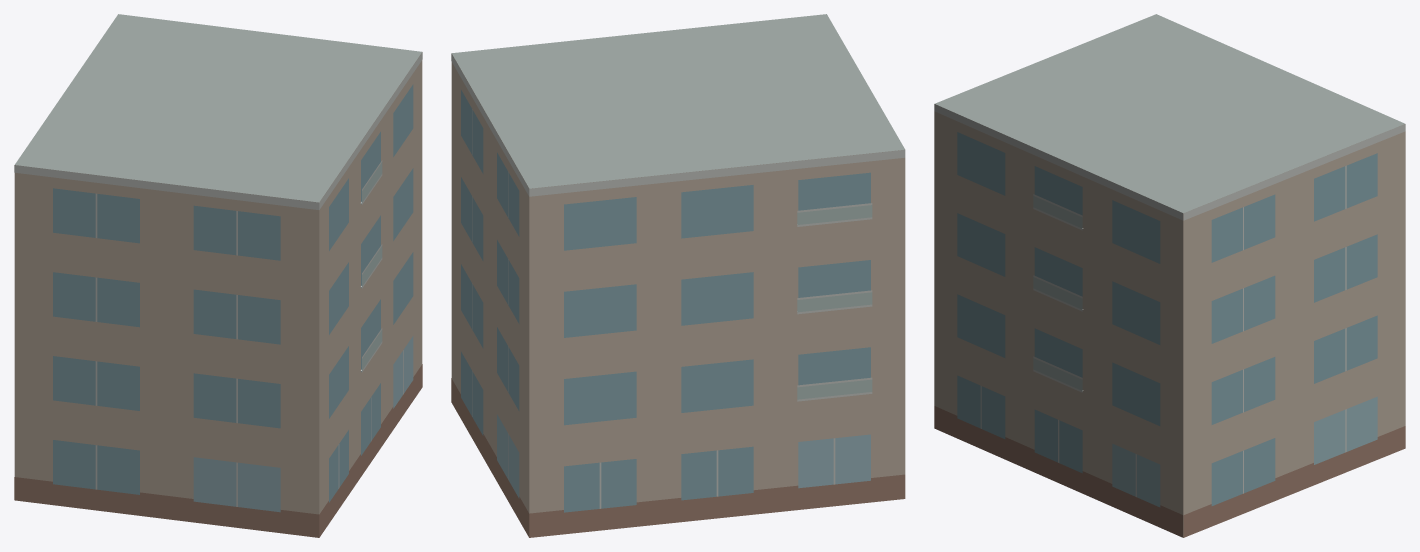
Rendered from survey-upis-32826347.glb.
The picture shows the model from 3 angles, left to right: view 1: azimuth 30°, elevation 25°; view 2: azimuth 150°, elevation 25°; view 3: azimuth 270°, elevation 25°; orthographic projection. The views are drawn at different scales.
Parts seen in each view (by area): view 1: survey-upis-32826347.tmp; view 2: survey-upis-32826347.tmp; view 3: survey-upis-32826347.tmp.
Boxes of the visible parts, x1,y1,x2,y2 form: survey-upis-32826347.tmp: (14, 14, 422, 537); survey-upis-32826347.tmp: (451, 14, 905, 537); survey-upis-32826347.tmp: (934, 14, 1405, 537).
Bounding box in the file's own units: 13.96 × 10.6 × 13.95.
